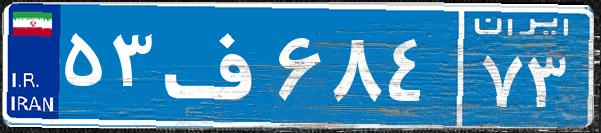3: (110, 28, 158, 105), (525, 38, 570, 115)
4: (385, 28, 445, 110)
5: (57, 26, 110, 107)
6: (273, 28, 330, 110)
7: (475, 38, 525, 113)
8: (330, 28, 385, 110)
ف: (158, 15, 273, 115)
